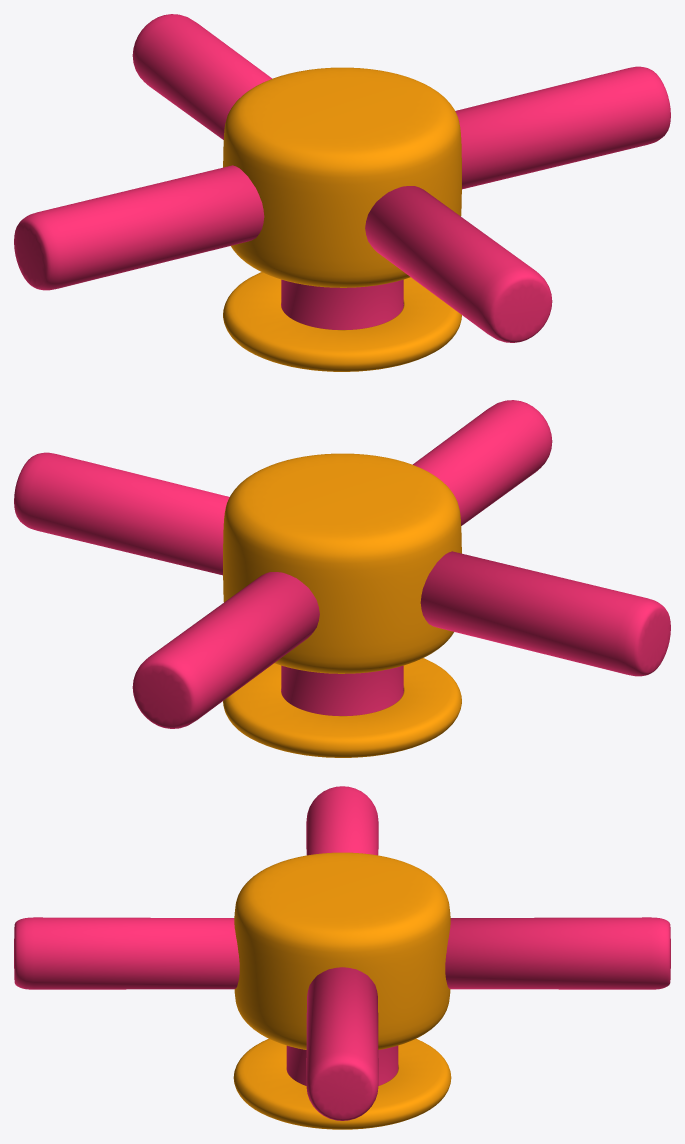
3 renders of one model, top to bottom at view 1: azimuth 30°, elevation 25°; view 2: azimuth 150°, elevation 25°; view 3: azimuth 270°, elevation 25°, orthographic. The views are drawn at different scales.
Visible parts, largest first — view 1: Merkez.014, Kol-1, Kol-3, Kol-2, Kol-4; view 2: Merkez.014, Kol-1, Kol-3, Kol-4, Kol-2; view 3: Merkez.014, Kol-2, Kol-4, Kol-3, Kol-1.
Boxes of the visible parts, box(x1,y1,x2,y2) form: Merkez.014: box(223, 67, 461, 371); Kol-1: box(14, 165, 264, 290); Kol-3: box(455, 66, 670, 189); Kol-2: box(365, 186, 552, 342); Kol-4: box(132, 14, 272, 139); Merkez.014: box(223, 453, 461, 757); Kol-1: box(420, 551, 670, 676); Kol-3: box(14, 452, 229, 575); Kol-4: box(132, 572, 319, 728); Kol-2: box(412, 400, 552, 525); Merkez.014: box(233, 852, 451, 1129); Kol-2: box(14, 917, 239, 989); Kol-4: box(445, 917, 670, 989); Kol-3: box(306, 967, 378, 1120); Kol-1: box(306, 786, 378, 855).
Bounding box in the file's own units: 120 × 39.55 × 120.
